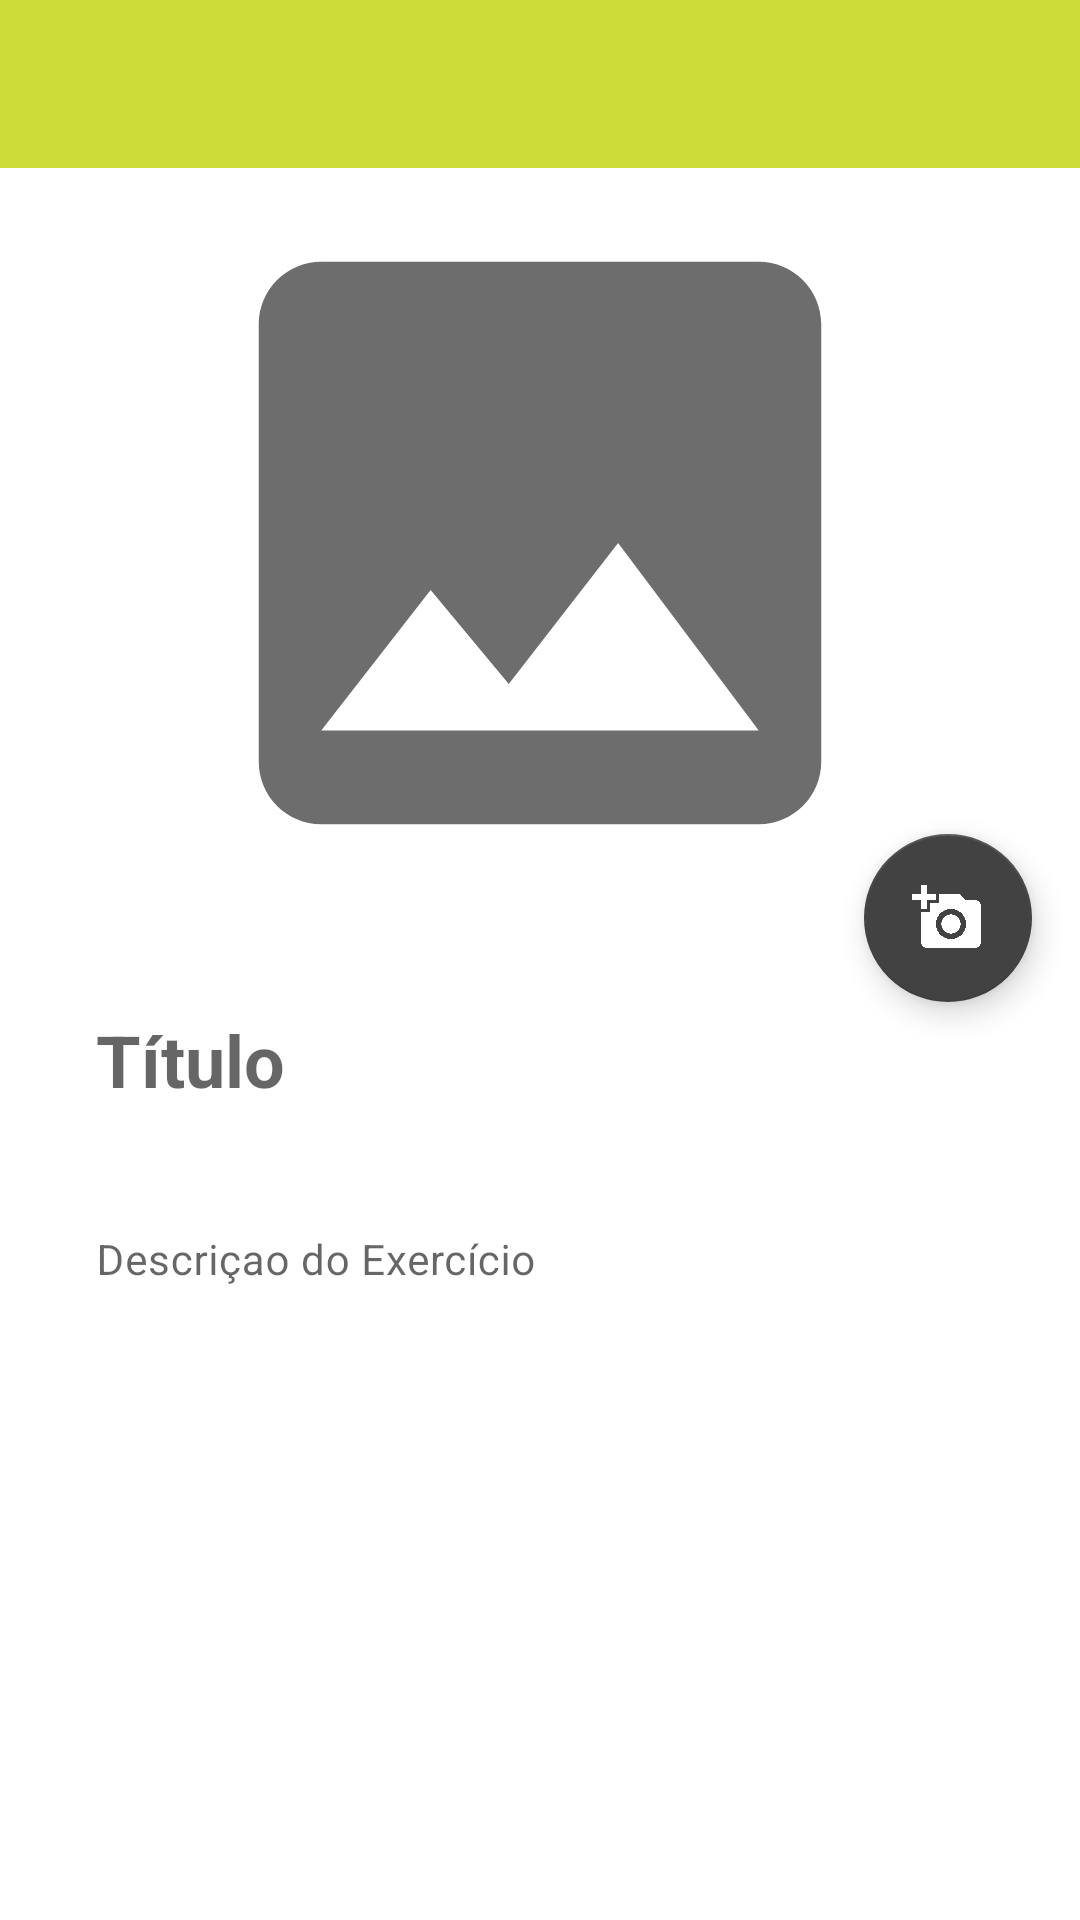

Where icons sit on this 1080x1920 app screen, as {"left": x1, "top": y1, "right": x2, "bottom": y2}:
Add a new image: {"left": 864, "top": 834, "right": 1032, "bottom": 1002}
